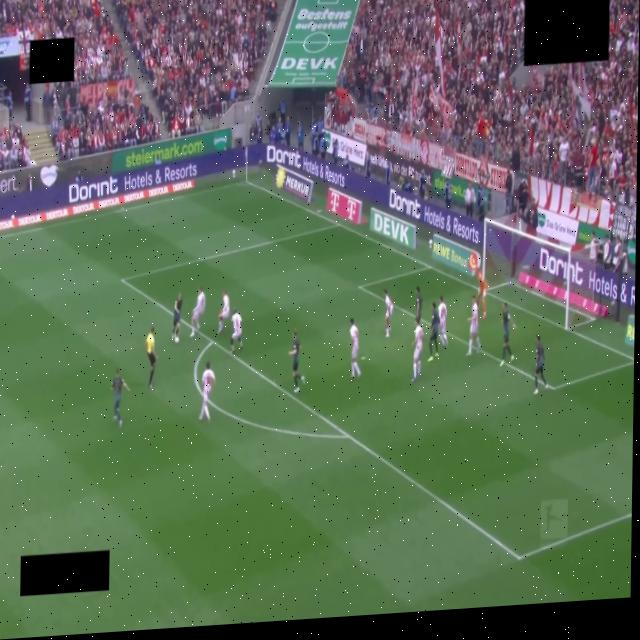ball: (174, 336, 179, 344)
player: (111, 368, 129, 426), (288, 330, 304, 393), (500, 302, 516, 365), (200, 362, 215, 421), (534, 335, 548, 394), (466, 296, 480, 355), (191, 287, 205, 337), (412, 319, 423, 381), (428, 303, 439, 362), (350, 318, 360, 378), (231, 309, 242, 353), (477, 270, 487, 318), (218, 292, 229, 333), (439, 296, 448, 346), (384, 289, 393, 338), (172, 294, 181, 339), (416, 286, 422, 320)
referee: (146, 326, 157, 388)
